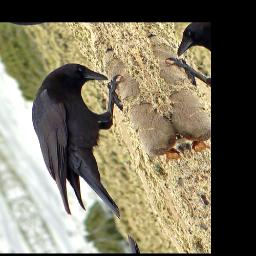Crow: (1, 50, 186, 235)
